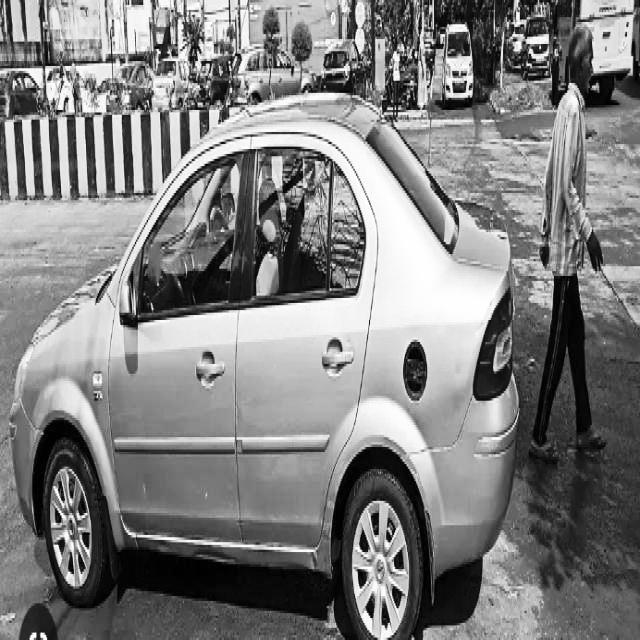Car: (9, 53, 525, 639)
